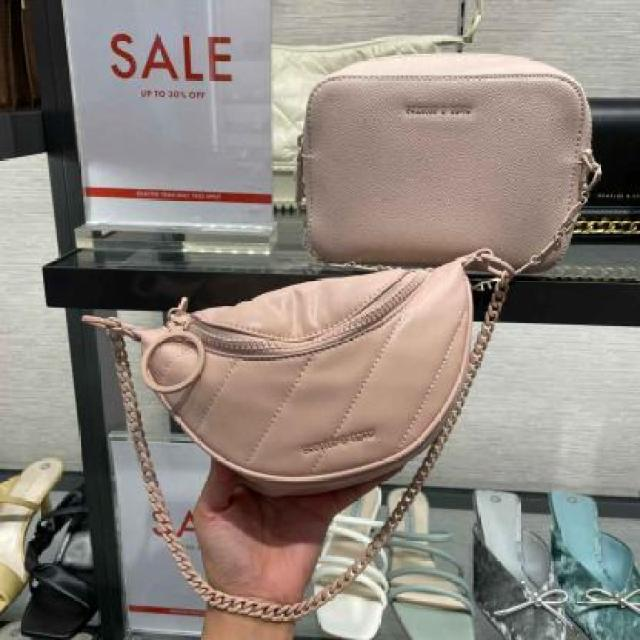Bag: (18, 226, 538, 512), (294, 50, 606, 302)
